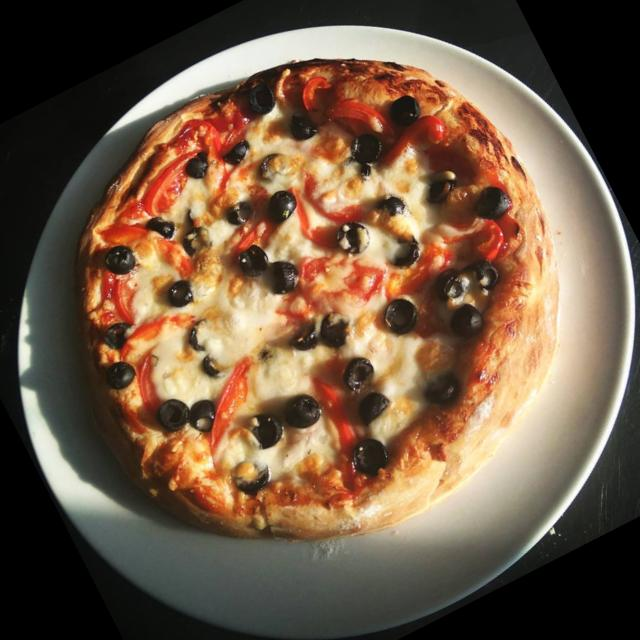black_olives: (339, 432, 396, 486), (437, 297, 491, 352), (469, 178, 522, 234), (329, 214, 380, 266), (240, 399, 290, 452), (175, 310, 227, 360), (344, 386, 398, 434), (227, 456, 278, 504), (460, 252, 507, 302), (376, 228, 426, 274), (376, 294, 424, 341), (260, 182, 308, 229), (227, 240, 274, 288), (427, 259, 476, 304), (380, 91, 429, 135), (184, 392, 230, 438), (278, 387, 324, 432), (152, 391, 196, 437), (262, 254, 303, 302), (312, 306, 356, 350), (419, 366, 464, 408), (100, 353, 144, 395), (178, 220, 220, 264), (335, 354, 380, 394), (100, 237, 142, 278), (347, 129, 388, 169), (242, 78, 282, 119), (283, 314, 323, 354), (162, 271, 200, 310), (418, 176, 459, 212), (177, 147, 216, 184), (102, 316, 138, 352), (376, 190, 410, 226), (144, 209, 180, 243), (198, 348, 234, 382), (221, 134, 256, 168), (287, 105, 320, 140), (221, 195, 255, 228)
pizza: (76, 58, 562, 543)
